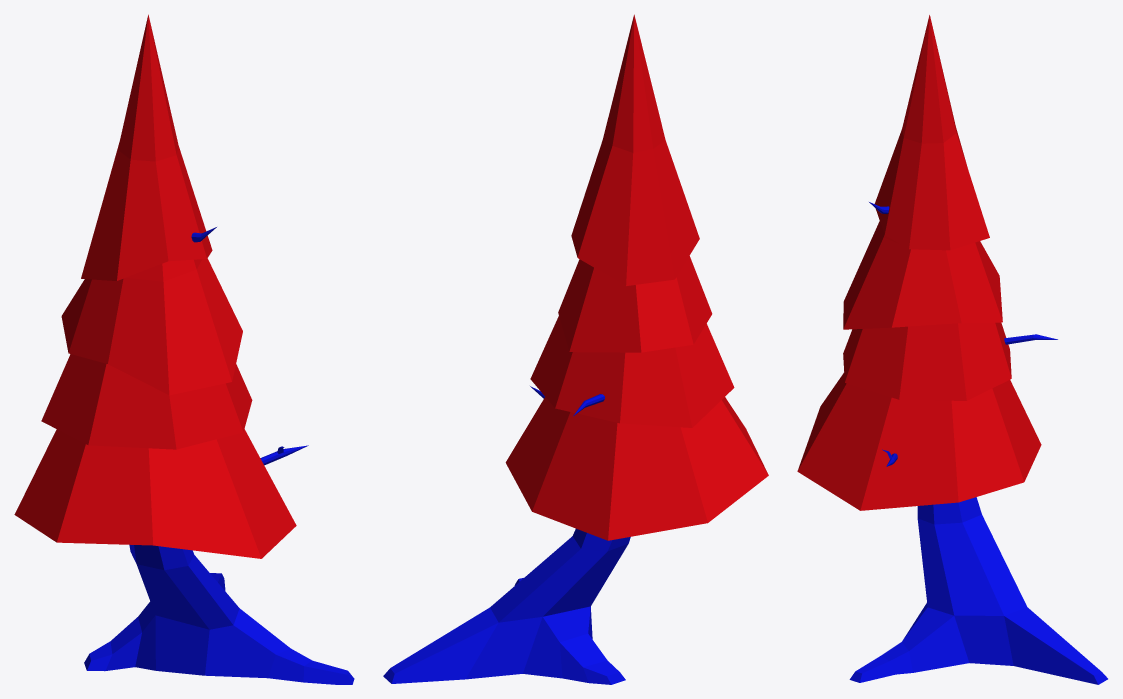
The model's file is SM_Conifer2.fbx.
The picture shows the model from 3 angles, left to right: view 1: azimuth 30°, elevation 25°; view 2: azimuth 150°, elevation 25°; view 3: azimuth 270°, elevation 25°; orthographic projection. The views are drawn at different scales.
Parts seen in each view (by area): view 1: SM_Conifer2; view 2: SM_Conifer2; view 3: SM_Conifer2.
Part boxes in pixels (x1,y1,x2,y2): SM_Conifer2: [14, 14, 354, 684]; SM_Conifer2: [383, 14, 768, 684]; SM_Conifer2: [797, 15, 1107, 684].
Size of the model in its own units: 181 by 405 by 191.
